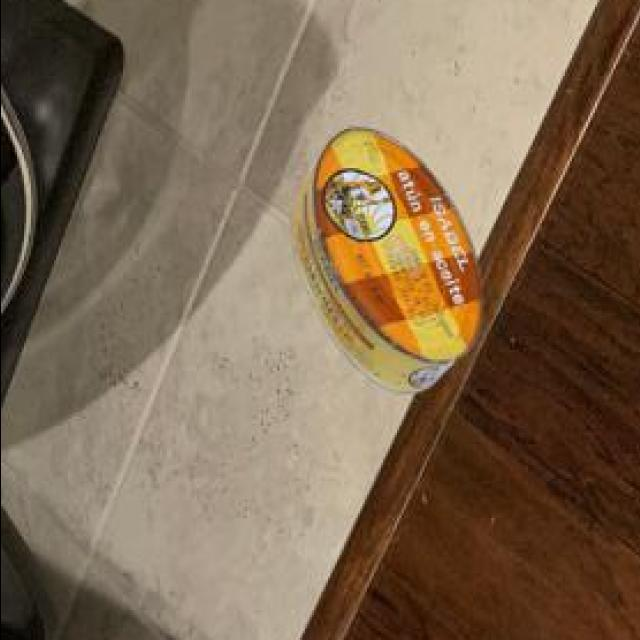logam: (287, 132, 478, 397)
